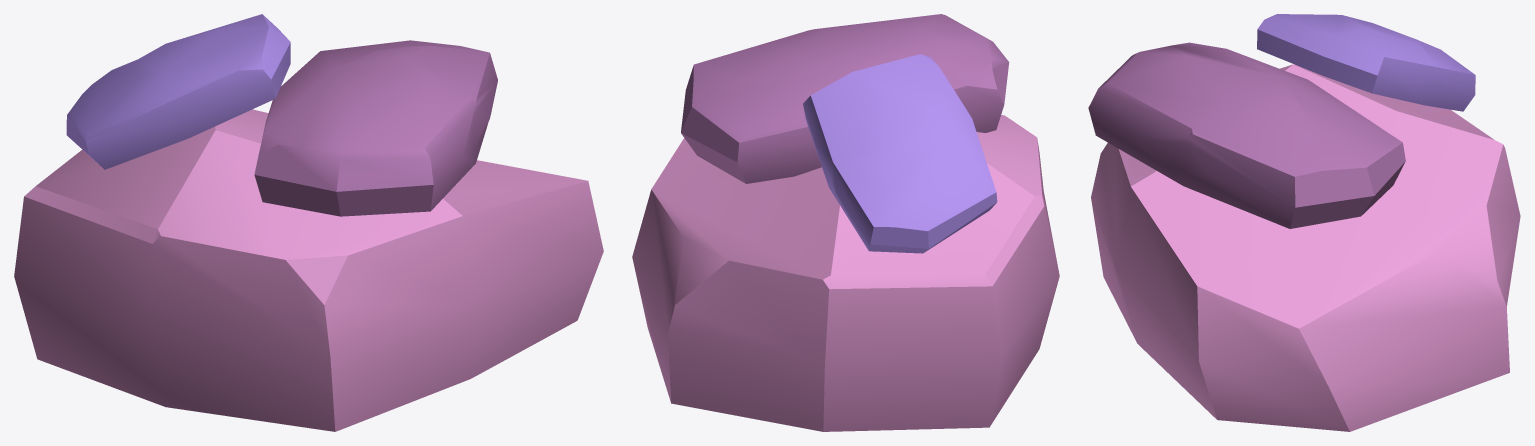
The picture shows the model from 3 angles, left to right: view 1: azimuth 30°, elevation 25°; view 2: azimuth 150°, elevation 25°; view 3: azimuth 270°, elevation 25°; orthographic projection. The views are drawn at different scales.
Visible parts, largest first — view 1: Cube.008, Cube.009, Cube.007; view 2: Cube.008, Cube.009, Cube.007; view 3: Cube.008, Cube.009, Cube.007.
Boxes of the visible parts, x1,y1,x2,y2 form: Cube.008: (14,109,603,431); Cube.009: (254,40,497,216); Cube.007: (66,14,290,169); Cube.008: (632,115,1059,431); Cube.009: (681,14,1009,183); Cube.007: (803,54,997,253); Cube.008: (1091,64,1520,431); Cube.009: (1088,42,1405,228); Cube.007: (1257,14,1475,111).
Bounding box in the file's own units: 119 × 81.56 × 106.
